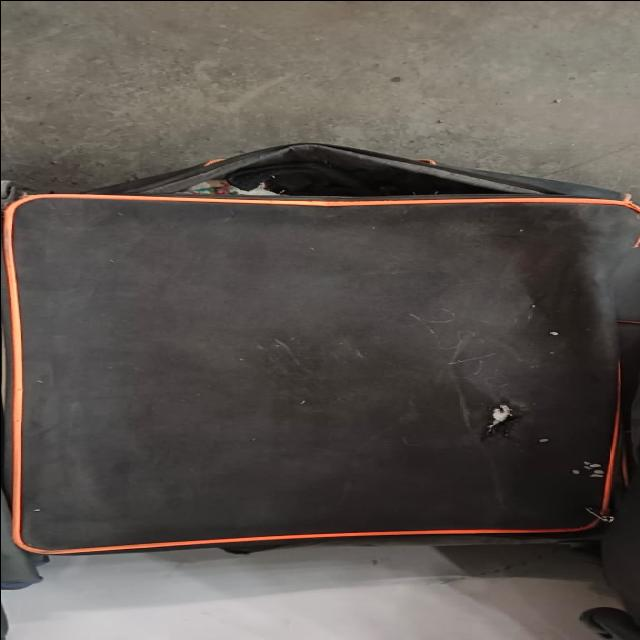Damage-bag: (87, 142, 626, 201), (483, 402, 515, 435)
